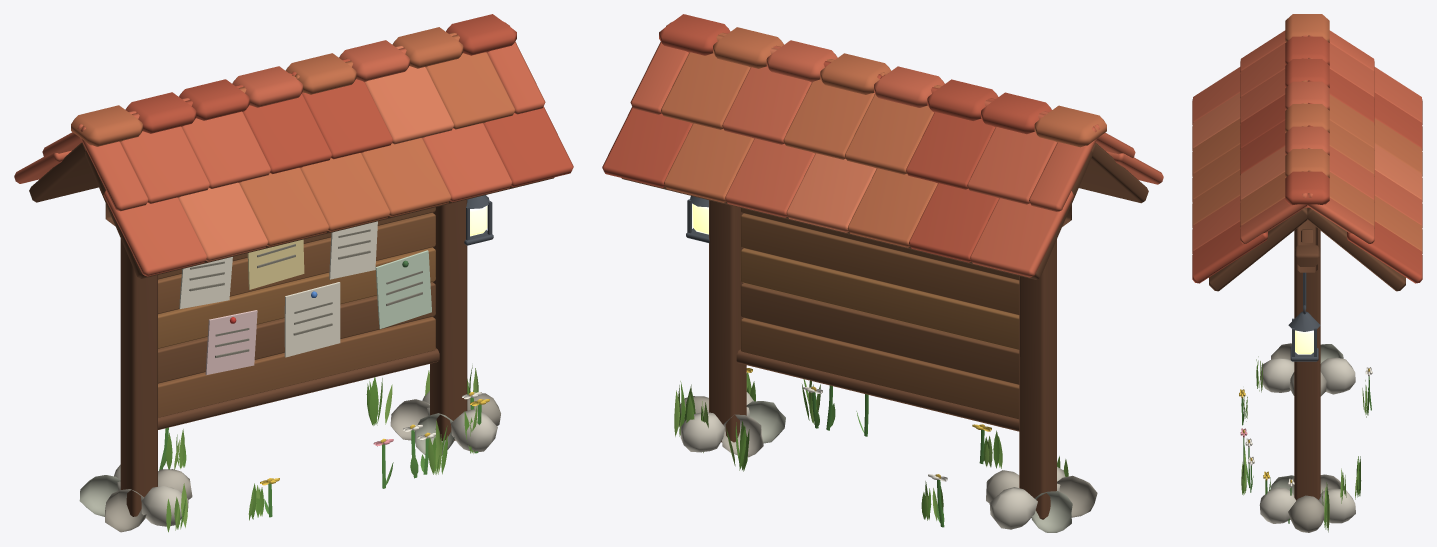
Rendered from notice_board.glb.
3 views of the same model, side by side, from view 1: azimuth 30°, elevation 25°; view 2: azimuth 150°, elevation 25°; view 3: azimuth 270°, elevation 25° (orthographic). The views are drawn at different scales.
Parts seen in each view (by area): view 1: Board, Notes; view 2: Board; view 3: Board.
Boxes of the visible parts, x1=… form: Board: x1=14, y1=14, x2=573, y2=532; Notes: x1=179, y1=221, x2=431, y2=374; Board: x1=602, y1=14, x2=1163, y2=532; Board: x1=1192, y1=14, x2=1422, y2=532.
Size of the model in its own units: 2.92 by 2.65 by 1.57.
